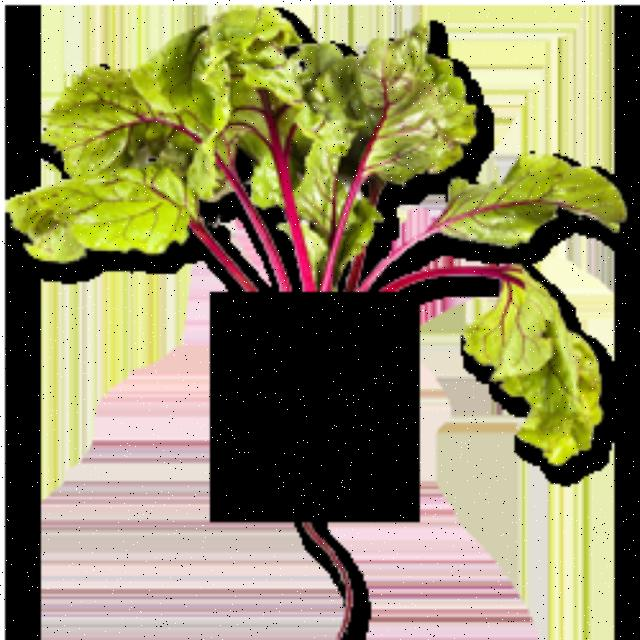Beetroot: (212, 292, 422, 522)
